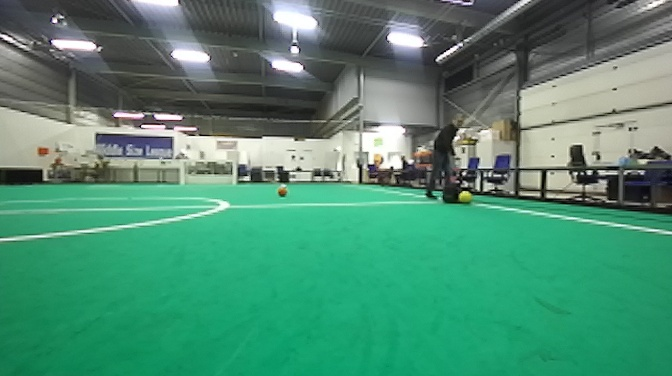ball: (458, 188, 474, 205), (277, 186, 290, 198)
goal: (178, 161, 238, 188)
goalpost: (178, 162, 186, 187), (231, 161, 237, 187)
human: (423, 110, 474, 204)
robot: (441, 155, 471, 205)
